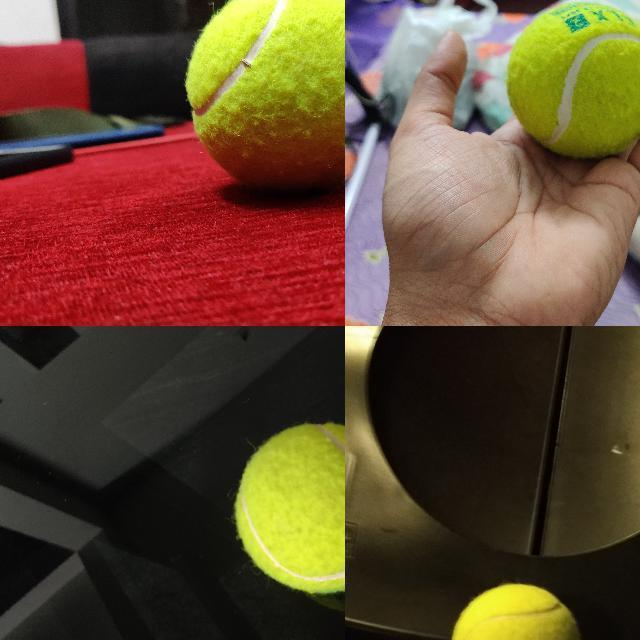tennis-ball: (184, 0, 344, 198), (505, 1, 639, 158), (234, 423, 344, 593), (447, 580, 584, 639)
